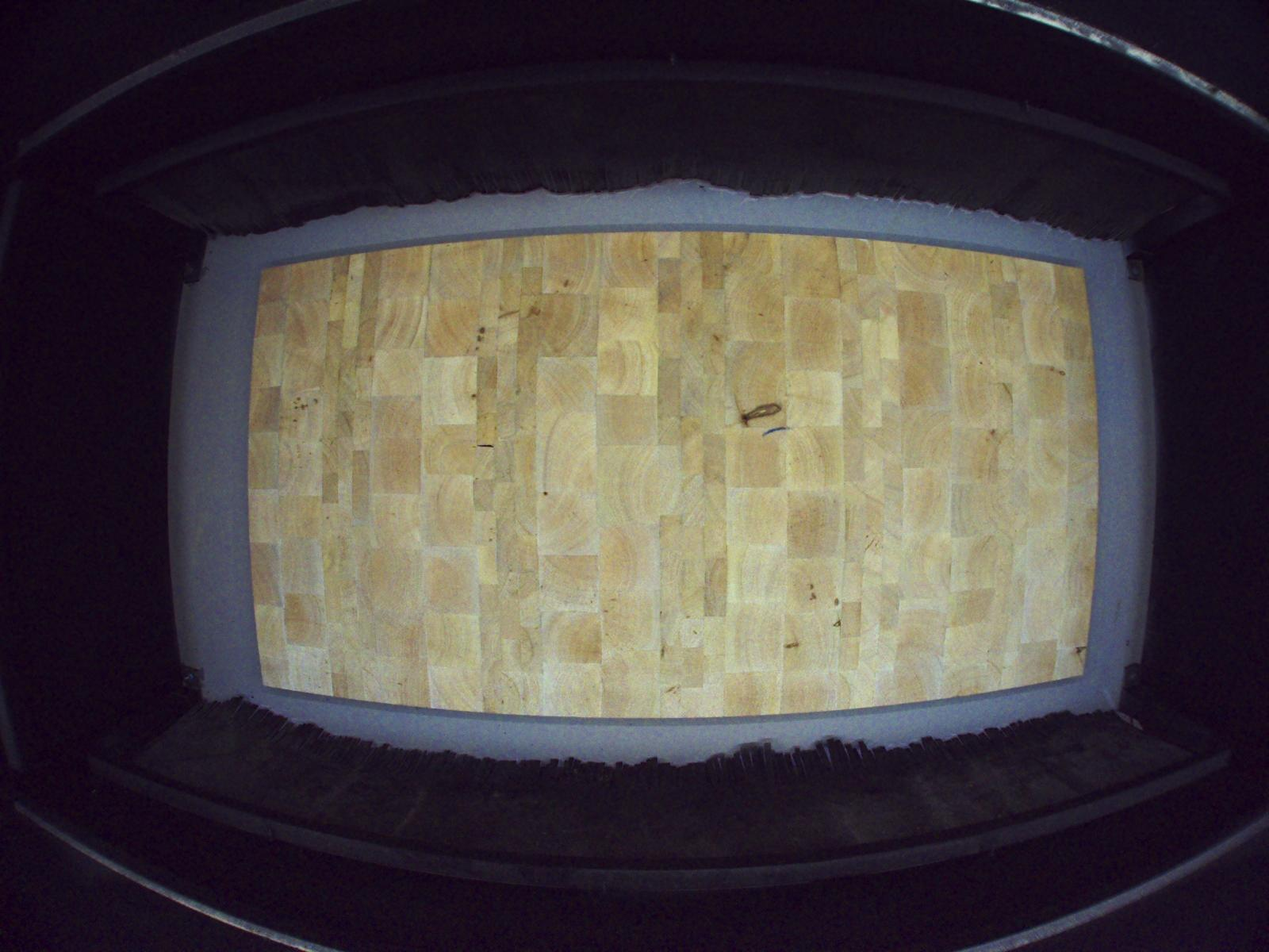sheck_ecuatoriano: (1075, 645, 1088, 669)
